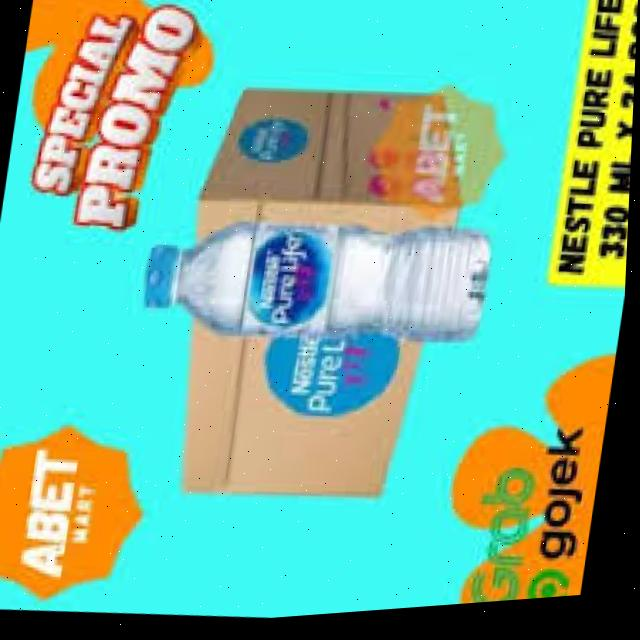Dry: (127, 157, 515, 385)
